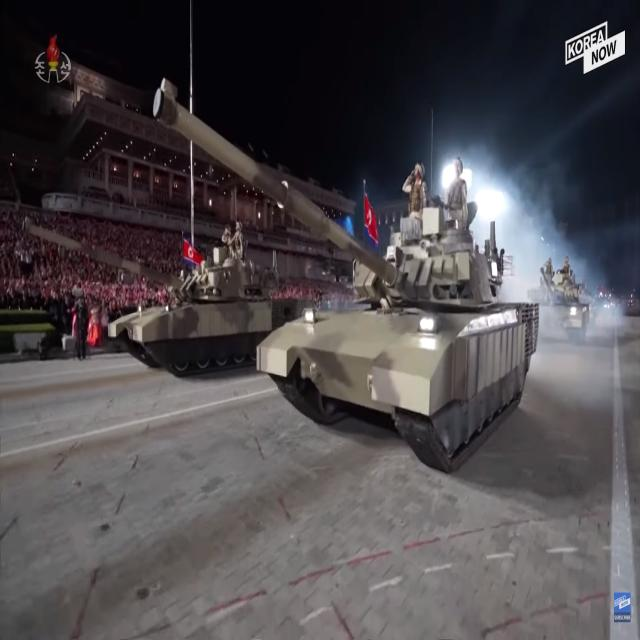north tank: (248, 126, 566, 490), (111, 221, 327, 385), (530, 233, 604, 376)
